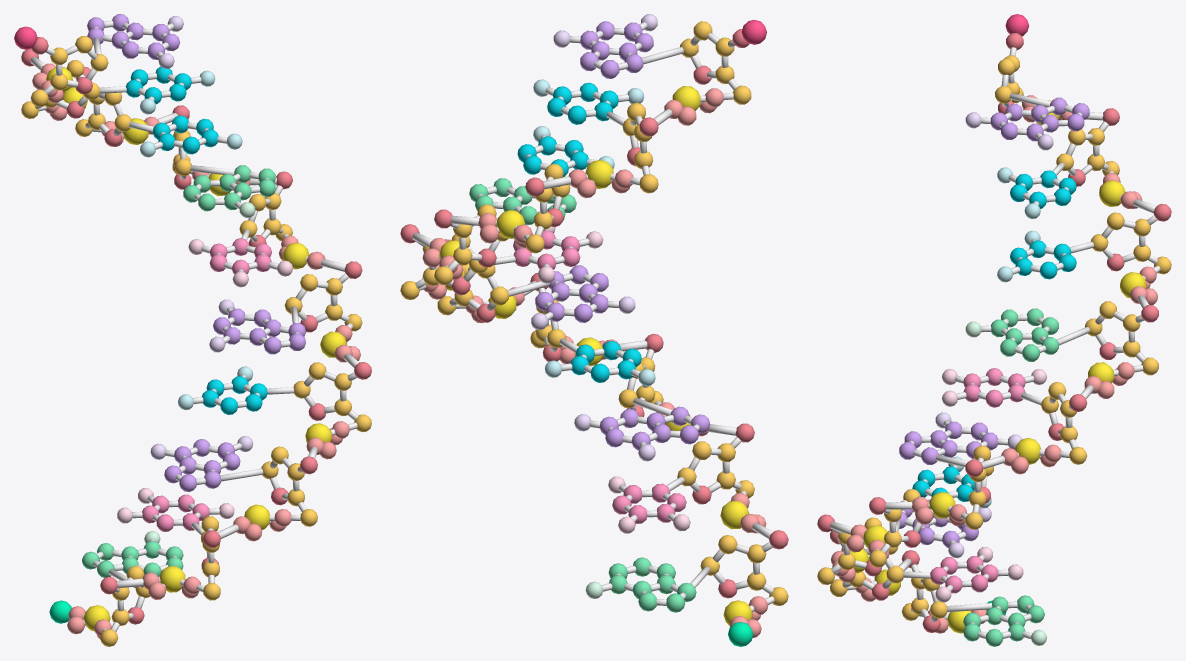
The model's file is Polynucleotide_Strand.glb.
3 renders of one model, left to right at view 1: azimuth 30°, elevation 25°; view 2: azimuth 150°, elevation 25°; view 3: azimuth 270°, elevation 25°, orthographic. The views are drawn at different scales.
Parts seen in each view (by area): view 1: Base_07_A_Ring, Base_05_G_Ring, Base_03_G_Ring, Base_10_G_Ring, Base_01_A_Ring, Base_04_C_Ring, Base_02_T_Ring, Base_08_C_Ring, Base_09_C_Ring, Base_06_T_Ring, Sugar_10_Carbon, Sugar_04_Carbon (+27 smaller); view 2: Base_10_G_Ring, Base_03_G_Ring, Base_01_A_Ring, Base_05_G_Ring, Base_07_A_Ring, Base_09_C_Ring, Base_04_C_Ring, Base_02_T_Ring, Base_08_C_Ring, Sugar_10_Carbon, Sugar_01_Carbon, Sugar_02_Carbon (+29 smaller); view 3: Base_10_G_Ring, Base_07_A_Ring, Base_01_A_Ring, Base_05_G_Ring, Base_02_T_Ring, Base_08_C_Ring, Base_06_T_Ring, Base_09_C_Ring, Sugar_08_Carbon, Sugar_07_Carbon, Sugar_06_Carbon, Sugar_09_Carbon (+24 smaller).
Boxes of the visible parts, x1,y1,x2,y2 form: Base_07_A_Ring: (183, 165, 275, 211); Base_05_G_Ring: (213, 308, 305, 354); Base_03_G_Ring: (164, 439, 240, 491); Base_10_G_Ring: (87, 14, 179, 59); Base_01_A_Ring: (82, 541, 183, 577); Base_04_C_Ring: (202, 376, 267, 414); Base_02_T_Ring: (142, 494, 209, 531); Base_08_C_Ring: (152, 115, 218, 154); Base_09_C_Ring: (126, 66, 191, 104); Base_06_T_Ring: (209, 238, 271, 274); Sugar_10_Carbon: (30, 36, 108, 106); Sugar_04_Carbon: (293, 362, 371, 432); Base_10_G_Ring: (580, 21, 653, 78); Base_03_G_Ring: (599, 406, 709, 450); Base_01_A_Ring: (608, 557, 696, 612); Base_05_G_Ring: (535, 265, 608, 322); Base_07_A_Ring: (469, 178, 576, 224); Base_09_C_Ring: (547, 82, 618, 124); Base_04_C_Ring: (570, 341, 641, 382); Base_02_T_Ring: (612, 483, 686, 523); Base_08_C_Ring: (517, 136, 588, 176); Sugar_10_Carbon: (680, 21, 751, 104); Sugar_01_Carbon: (700, 535, 788, 605); Sugar_02_Carbon: (677, 441, 754, 498); Base_10_G_Ring: (990, 97, 1089, 141); Base_07_A_Ring: (991, 308, 1058, 361); Base_01_A_Ring: (963, 595, 1044, 646); Base_05_G_Ring: (899, 421, 997, 464); Base_02_T_Ring: (930, 556, 998, 593); Base_08_C_Ring: (1010, 240, 1076, 279); Base_06_T_Ring: (963, 368, 1025, 407); Base_09_C_Ring: (1010, 170, 1076, 208); Sugar_08_Carbon: (1090, 212, 1171, 274); Sugar_07_Carbon: (1085, 301, 1158, 375); Sugar_06_Carbon: (1041, 382, 1087, 464); Sugar_09_Carbon: (1056, 128, 1119, 175).
Bounding box in the file's own units: 0.2051 × 0.3597 × 0.1931.
